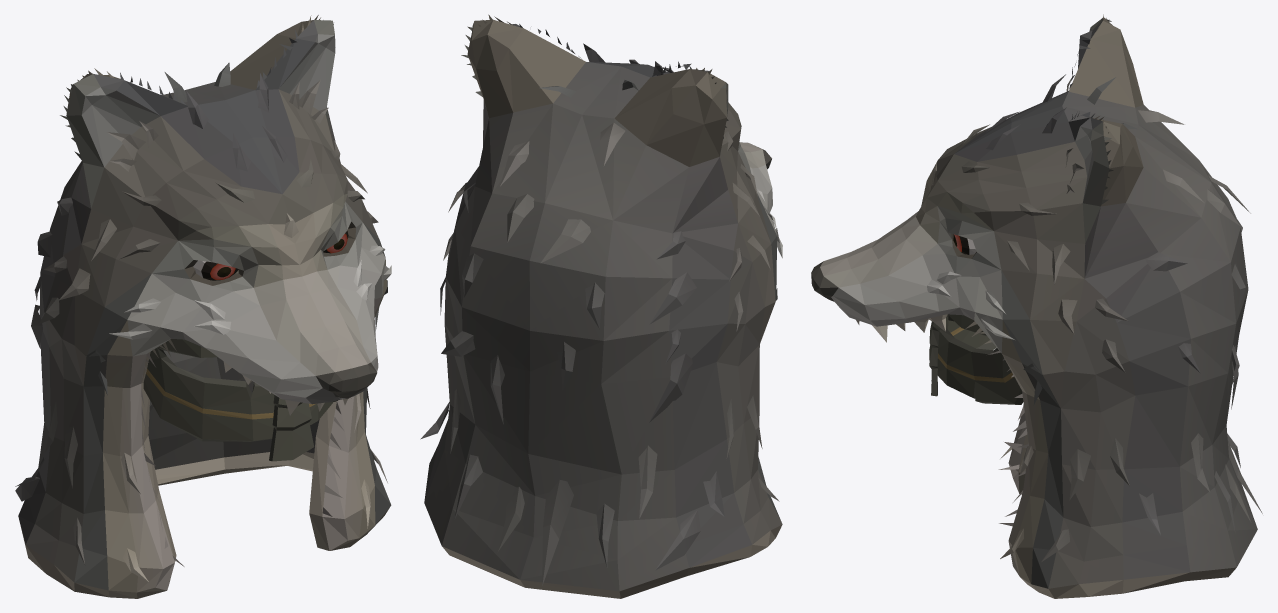
The model's file is vikingArmorWolfHelmetFemale.glb.
The picture shows the model from 3 angles, left to right: view 1: azimuth 30°, elevation 25°; view 2: azimuth 150°, elevation 25°; view 3: azimuth 270°, elevation 25°; orthographic projection. The views are drawn at different scales.
Parts seen in each view (by area): view 1: vikingArmorWolfHelmet; view 2: vikingArmorWolfHelmet; view 3: vikingArmorWolfHelmet.
Boxes of the visible parts, x1=… form: vikingArmorWolfHelmet: x1=15, y1=15, x2=391, y2=598; vikingArmorWolfHelmet: x1=420, y1=14, x2=782, y2=598; vikingArmorWolfHelmet: x1=811, y1=14, x2=1262, y2=598.
Bounding box in the file's own units: 0.3632 × 0.5285 × 0.4575.
